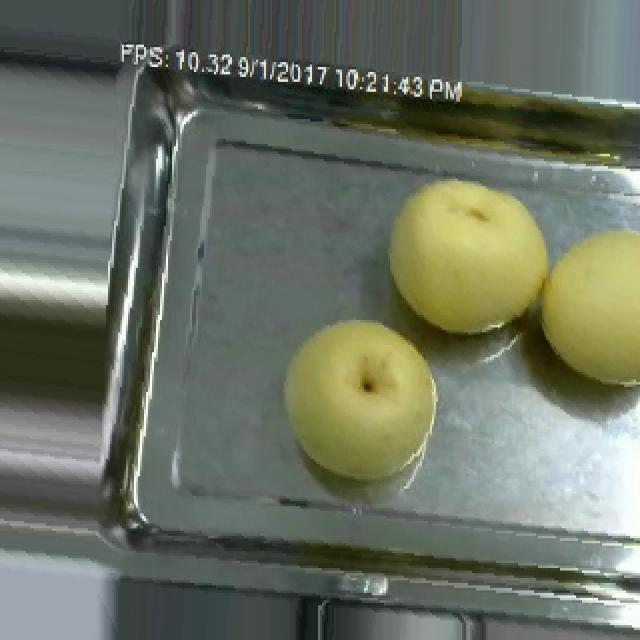Fruit: (374, 164, 564, 347), (270, 305, 450, 491), (524, 211, 640, 397)
